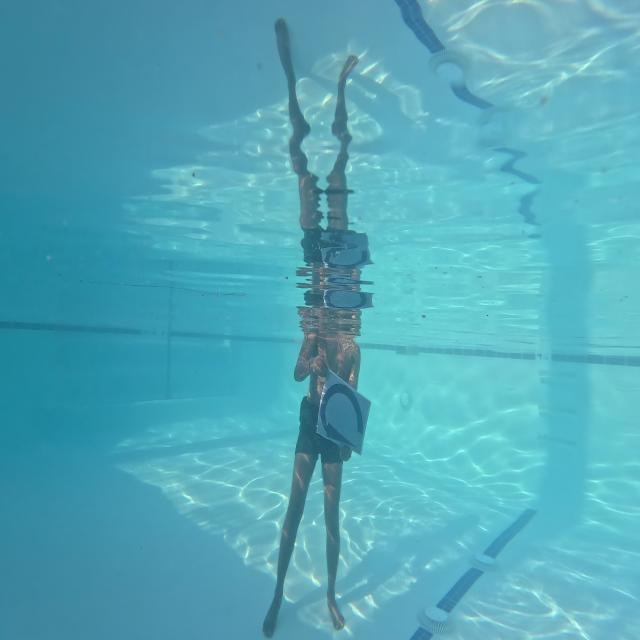blue_side: (316, 357, 372, 458)
